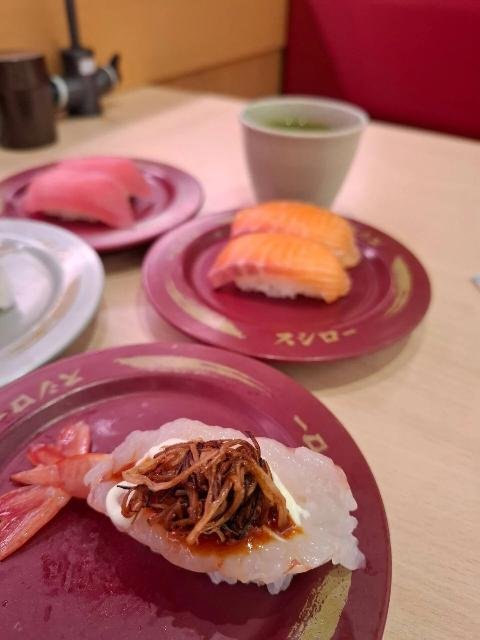janred: (0, 347, 398, 640), (127, 191, 421, 365), (7, 156, 191, 244)
janwhite: (0, 189, 107, 366)
